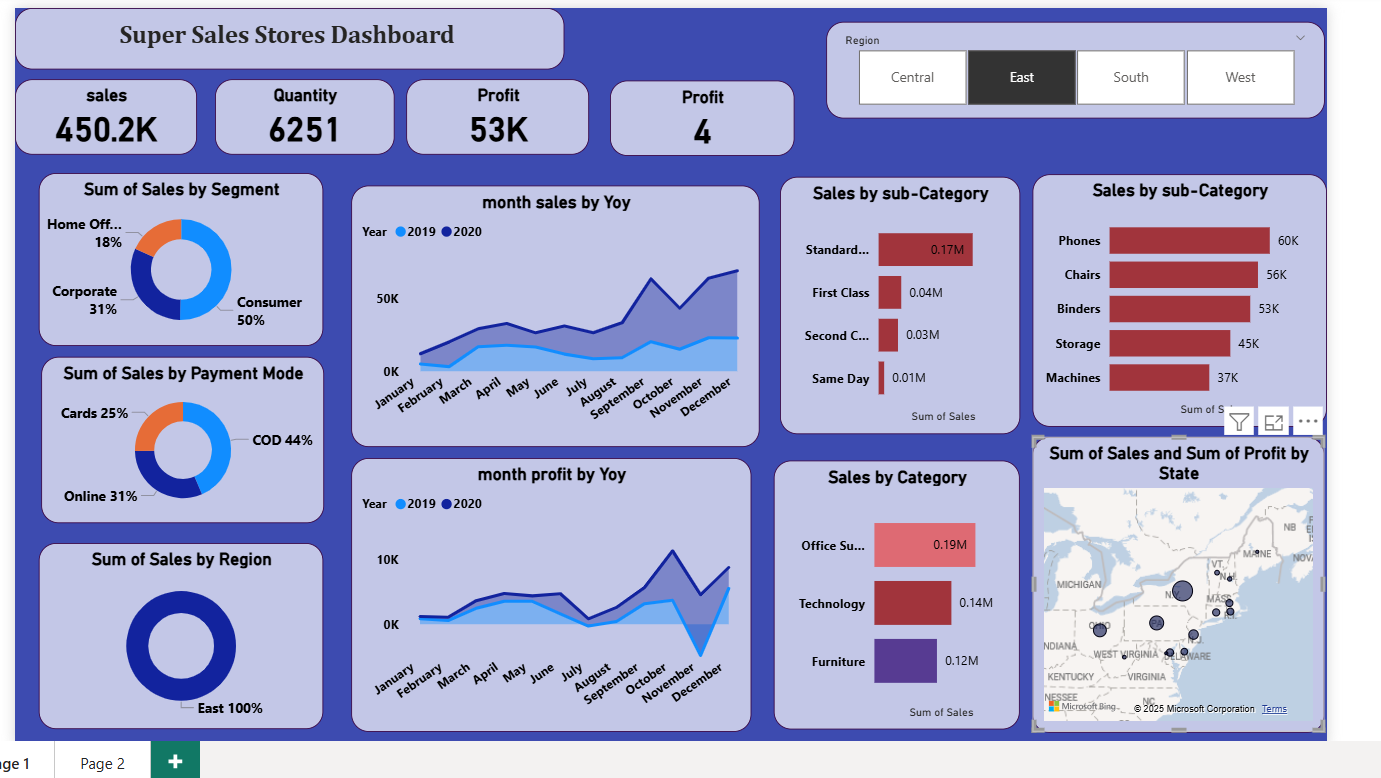

Layout of this report page (visuals, bound fields, positions):
{"tool":"powerbi","page":{"name":"Page 1","canvas":[1280,720],"ordinal":0},"visuals":[{"type":"clusteredBarChart","title":" Sales by Category","fields":{"Category":["Sheet1.Category"],"Y":["Sum(Sheet1.Sales)"]},"box":[740,441.2,240,262.5],"z":0},{"type":"clusteredBarChart","title":" Sales by  sub-Category","fields":{"Category":["Sheet1.Sub-Category"],"Y":["Sum(Sheet1.Sales)"]},"box":[992.9,161.7,287.1,246.1],"z":1000},{"type":"clusteredBarChart","title":" Sales by  sub-Category","fields":{"Category":["Sheet1.Ship Mode"],"Y":["Sum(Sheet1.Sales)"]},"box":[746.8,164.1,234,250.9],"z":2000},{"type":"stackedAreaChart","title":" month sales by Yoy","fields":{"Y":["Sum(Sheet1.Sales)"],"Series":["Sheet1.Order Date.Variation.Date Hierarchy.Year"],"Category":["Sheet1.Order Date.Variation.Date Hierarchy.Month","Sheet1.Order Date.Variation.Date Hierarchy.Day"]},"box":[327.5,173.8,398.8,255],"z":3000},{"type":"stackedAreaChart","title":" month profit by Yoy","fields":{"Series":["Sheet1.Order Date.Variation.Date Hierarchy.Year"],"Category":["Sheet1.Order Date.Variation.Date Hierarchy.Month","Sheet1.Order Date.Variation.Date Hierarchy.Day"],"Y":["Sum(Sheet1.Profit)"]},"box":[327.5,438.8,390,267.5],"z":4000},{"type":"map","fields":{"Category":["Sheet1.State"],"Size":["Sum(Sheet1.Sales)"]},"box":[992.9,417.4,287.1,302.8],"z":5000},{"type":"donutChart","fields":{"Category":["Sheet1.Segment"],"Y":["Sum(Sheet1.Sales)"]},"box":[23.8,161.2,277.5,168.8],"z":6000},{"type":"donutChart","fields":{"Category":["Sheet1.Payment Mode"],"Y":["Sum(Sheet1.Sales)"]},"box":[25,340,276.2,162.5],"z":7000},{"type":"slicer","fields":{"Values":["Sheet1.Region"]},"box":[791.4,13.3,486.2,94.1],"z":8000},{"type":"textbox","box":[0,0,536.2,60],"z":9000},{"type":"card","title":"sales","fields":{"Values":["Sum(Sheet1.Sales)"]},"box":[0,70,177.5,73.8],"z":10000},{"type":"card","title":"Quantity","fields":{"Values":["Sum(Sheet1.Quantity)"]},"box":[195,70,175,73.8],"z":11000},{"type":"card","title":"Profit","fields":{"Values":["Sum(Sheet1.Profit)"]},"box":[381.2,70,178.8,73.8],"z":12000},{"type":"card","title":"Profit","fields":{"Values":["Avg(Sheet1.AvgDelivery)"]},"box":[580,71.2,180,73.8],"z":13000},{"type":"donutChart","fields":{"Category":["Sheet1.Region"],"Y":["Sum(Sheet1.Sales)"]},"box":[23.8,522.5,277.5,181.2],"z":14000}]}

Visuals, with their boxes in screenshot pixels (x1, y1, x2, y2):
" Sales by Category" clusteredBarChart: x1=770 y1=456 x2=1017 y2=726
" Sales by  sub-Category" clusteredBarChart: x1=1030 y1=170 x2=1324 y2=422
" Sales by  sub-Category" clusteredBarChart: x1=777 y1=172 x2=1017 y2=430
" month sales by Yoy" stackedAreaChart: x1=347 y1=182 x2=756 y2=444
" month profit by Yoy" stackedAreaChart: x1=347 y1=454 x2=747 y2=728
map - Sheet1.State x Sum(Sheet1.Sales): x1=1030 y1=432 x2=1324 y2=743
donutChart - Sheet1.Segment x Sum(Sheet1.Sales): x1=35 y1=169 x2=320 y2=342
donutChart - Sheet1.Payment Mode x Sum(Sheet1.Sales): x1=36 y1=353 x2=320 y2=519
slicer - Sheet1.Region: x1=823 y1=17 x2=1322 y2=114
textbox: x1=11 y1=4 x2=561 y2=65
"sales" card: x1=11 y1=75 x2=193 y2=151
"Quantity" card: x1=211 y1=75 x2=391 y2=151
"Profit" card: x1=402 y1=75 x2=586 y2=151
"Profit" card: x1=606 y1=77 x2=791 y2=152
donutChart - Sheet1.Region x Sum(Sheet1.Sales): x1=35 y1=540 x2=320 y2=726
